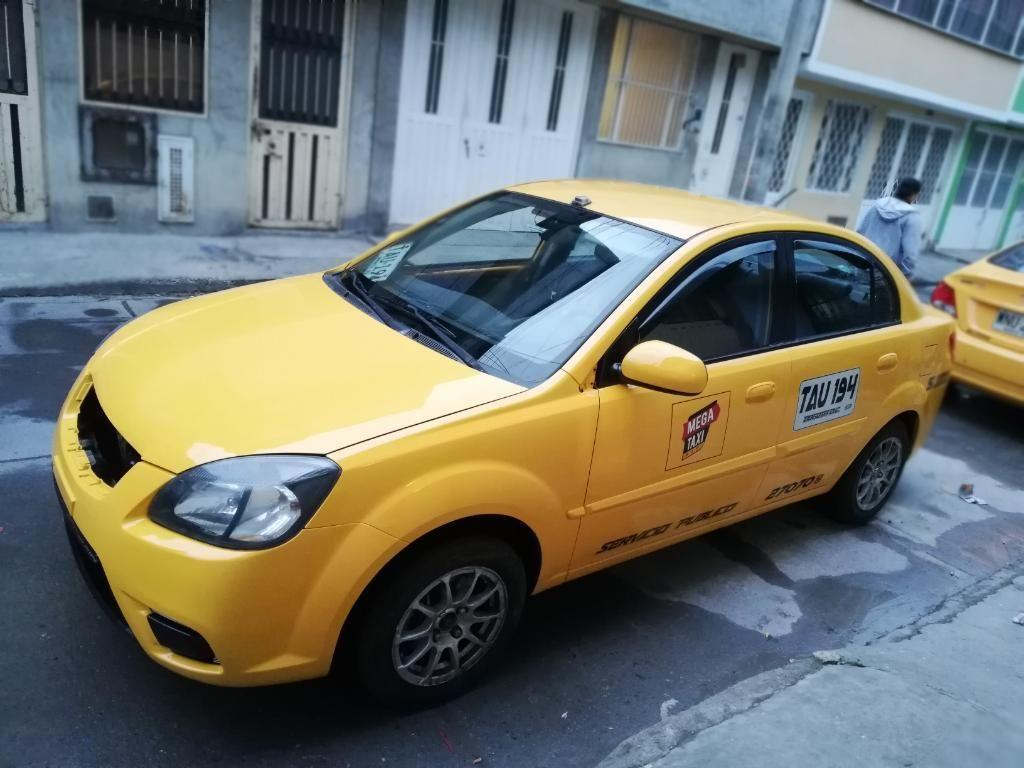taxi: (40, 94, 1005, 690)
